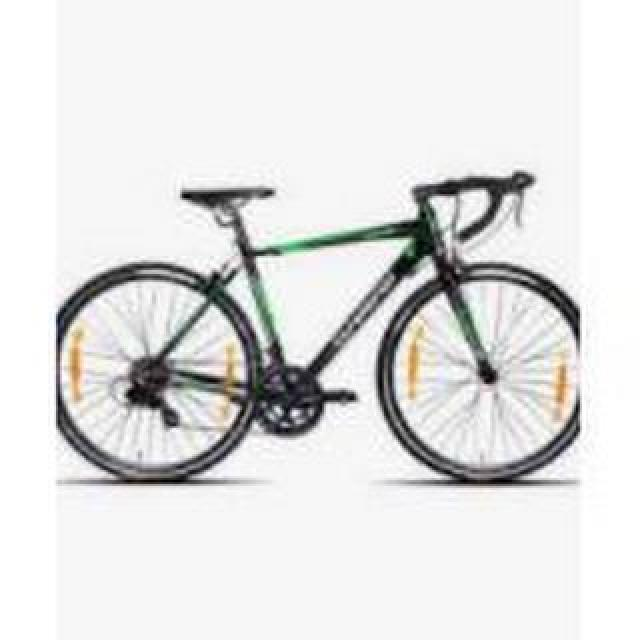Person: (53, 171, 587, 487)
